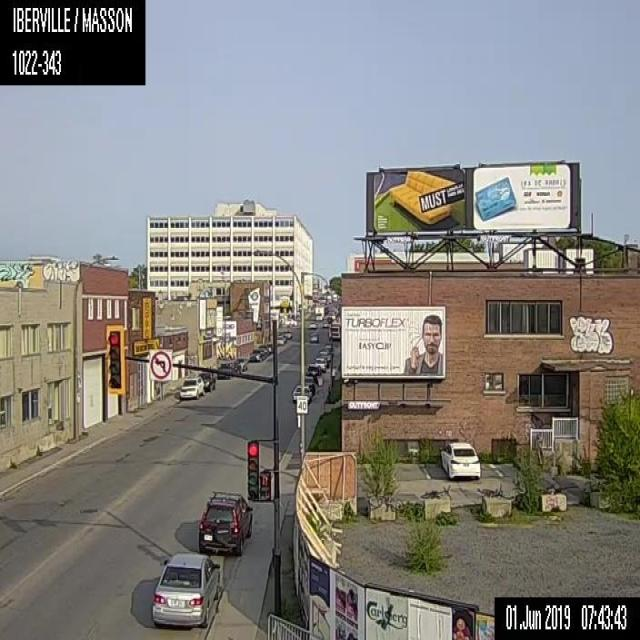bus: (327, 321, 340, 340)
vehicle: (151, 550, 220, 626), (197, 488, 252, 558), (439, 441, 481, 482), (178, 375, 204, 399), (291, 383, 312, 401), (215, 360, 233, 379), (198, 371, 215, 391), (305, 362, 321, 383), (248, 346, 264, 362), (302, 375, 315, 394), (316, 349, 329, 367), (313, 355, 326, 372), (227, 360, 240, 376), (235, 356, 248, 371), (314, 303, 324, 321), (256, 344, 268, 357), (323, 343, 333, 358), (308, 331, 320, 343), (264, 342, 274, 354), (284, 317, 298, 325), (276, 334, 284, 346), (307, 320, 316, 330), (283, 329, 292, 338)
